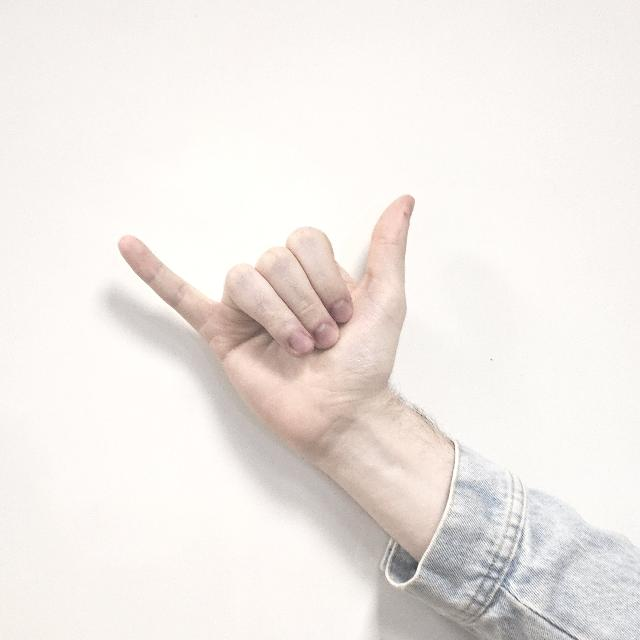Direita: (107, 185, 433, 475)
